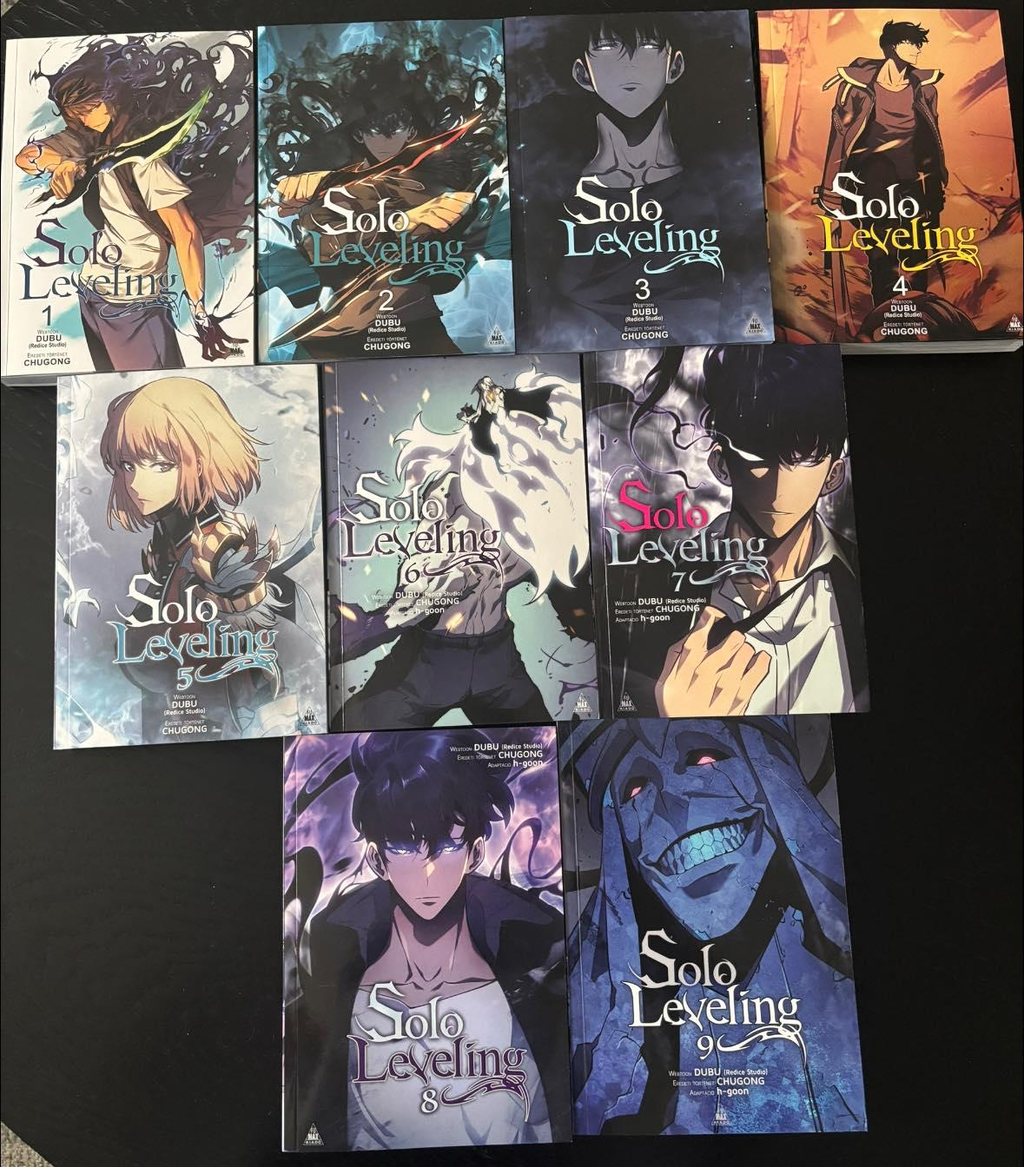comic: (559, 712, 866, 1141), (283, 727, 570, 1150), (580, 337, 868, 726), (314, 351, 598, 732), (50, 367, 327, 748), (757, 0, 1024, 357), (501, 6, 771, 354), (247, 17, 514, 363), (0, 30, 258, 384)
